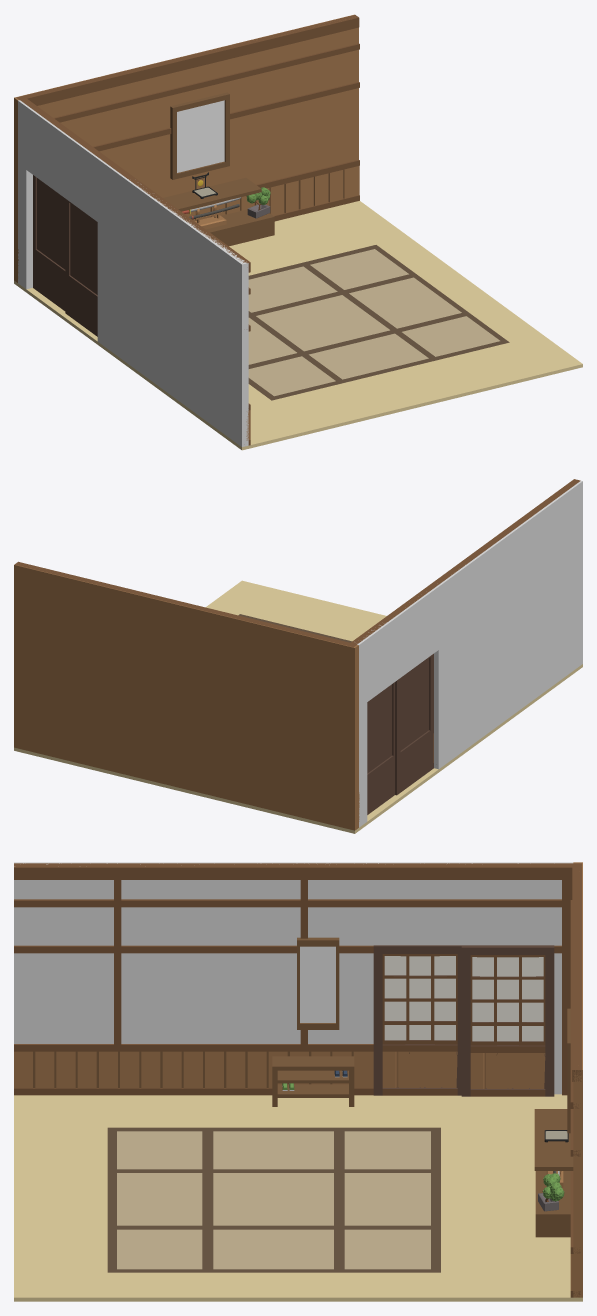
The model's file is InteriorDojo.fbx.
The picture shows the model from 3 angles, top to bottom: view 1: azimuth 30°, elevation 25°; view 2: azimuth 150°, elevation 25°; view 3: azimuth 270°, elevation 25°; orthographic projection. The views are drawn at different scales.
Visible parts, largest first — view 1: Cube.008, Cube.018, Cube.003, Plane, Cube.040, Cube.020, Cube.019, Cube.047, Cube.035, Cube.046, Cube.039, Cube.045 (+3 smaller); view 2: Cube.018, Cube.008, Cube.003, Cube.020, Cube.019, Cube.039, Cube.040; view 3: Cube.003, Cube.008, Plane, Cube.019, Cube.020, Cube.031, Cube.039, Cube.033, Cube.043, Cube.021, Cube.032, Cube.052 (+10 smaller).
Boxes of the visible parts, x1,y1,x2,y2 form: Cube.008: (18,100,248,446); Cube.018: (14,14,359,282); Cube.003: (14,201,582,450); Plane: (248,245,509,400); Cube.040: (16,15,359,105); Cube.020: (65,198,97,336); Cube.019: (33,175,65,310); Cube.047: (177,100,224,172); Cube.035: (54,43,359,122); Cube.046: (170,92,229,179); Cube.039: (20,98,250,272); Cube.045: (206,209,274,246); Cube.018: (14,563,359,830); Cube.008: (357,480,582,827); Cube.003: (14,580,582,833); Cube.020: (395,653,433,795); Cube.019: (367,682,394,814); Cube.039: (350,479,580,644); Cube.040: (15,561,356,647); Cube.003: (14,1094,582,1301); Cube.008: (14,862,573,1094); Plane: (107,1127,440,1272); Cube.019: (461,945,554,1096); Cube.020: (373,945,466,1095); Cube.031: (14,1051,373,1088); Cube.039: (14,863,573,879); Cube.033: (14,899,570,907); Cube.043: (272,1056,354,1106); Cube.021: (14,1044,373,1051); Cube.032: (14,945,373,953); Cube.052: (300,946,335,1022).
Bounding box in the file's own units: 1411 × 737 × 1634.
